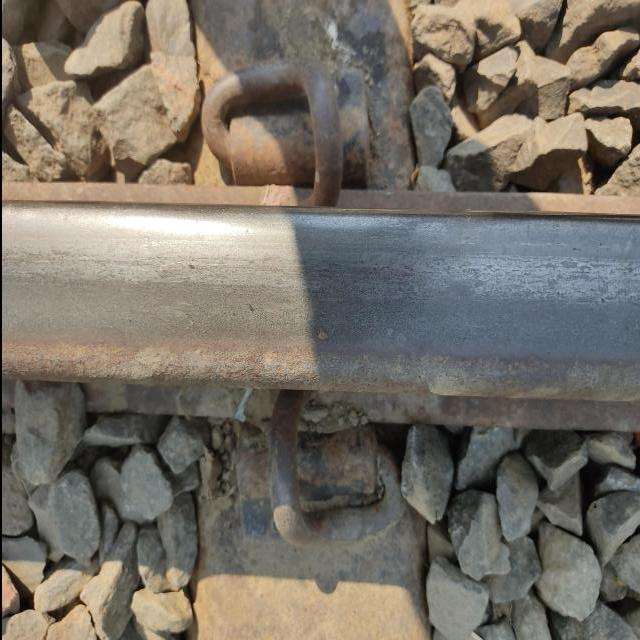broken_rail_medium: (394, 329, 406, 347), (316, 329, 326, 342), (246, 301, 254, 315), (184, 263, 194, 273)
